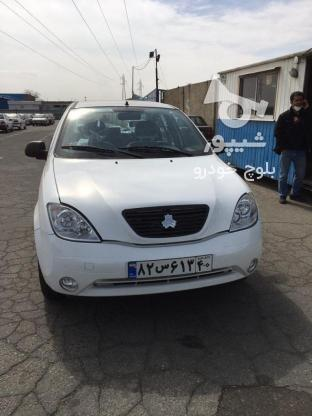car: (126, 252, 215, 282)
